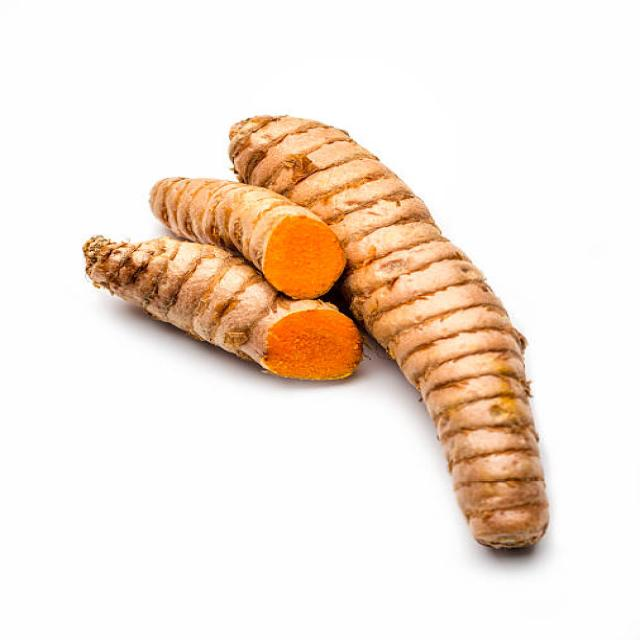turmeric: (220, 98, 586, 555), (27, 213, 390, 380), (82, 136, 338, 286)
